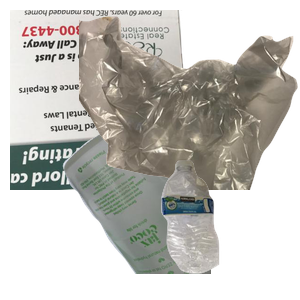glass: (60, 120, 300, 300)
paper: (10, 10, 201, 190)
plastic: (159, 158, 300, 300)
trash: (79, 14, 300, 194)
